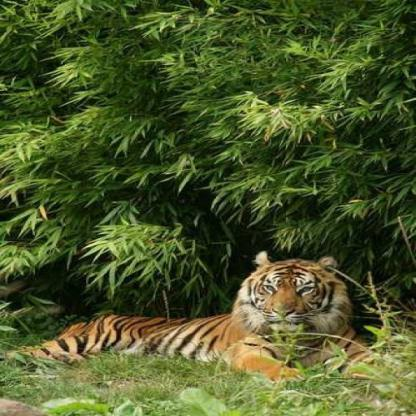Tiger: (45, 240, 374, 390)
